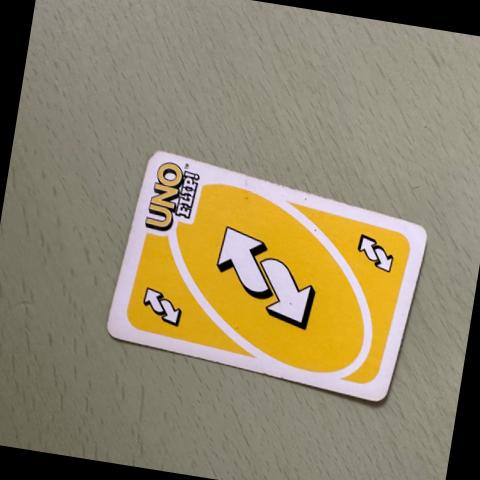lyellowrevers-20: (114, 273, 202, 342)
